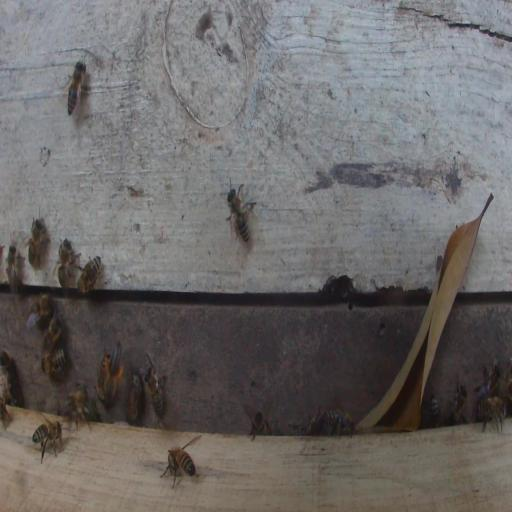nonpollenbee: (225, 188, 253, 247), (162, 445, 197, 489), (63, 386, 98, 427), (144, 358, 167, 419), (32, 419, 63, 463), (475, 396, 507, 435), (66, 60, 87, 117), (0, 349, 22, 403), (27, 214, 49, 266), (57, 238, 78, 286), (475, 363, 501, 401), (78, 254, 102, 294), (323, 409, 356, 437), (27, 295, 54, 329), (247, 406, 272, 441), (126, 370, 142, 424), (42, 347, 68, 380), (295, 408, 324, 435), (42, 314, 63, 351), (449, 382, 467, 424), (6, 242, 20, 293), (428, 394, 440, 427), (0, 392, 10, 431), (506, 356, 512, 399)
pollenbee: (103, 342, 124, 406)
